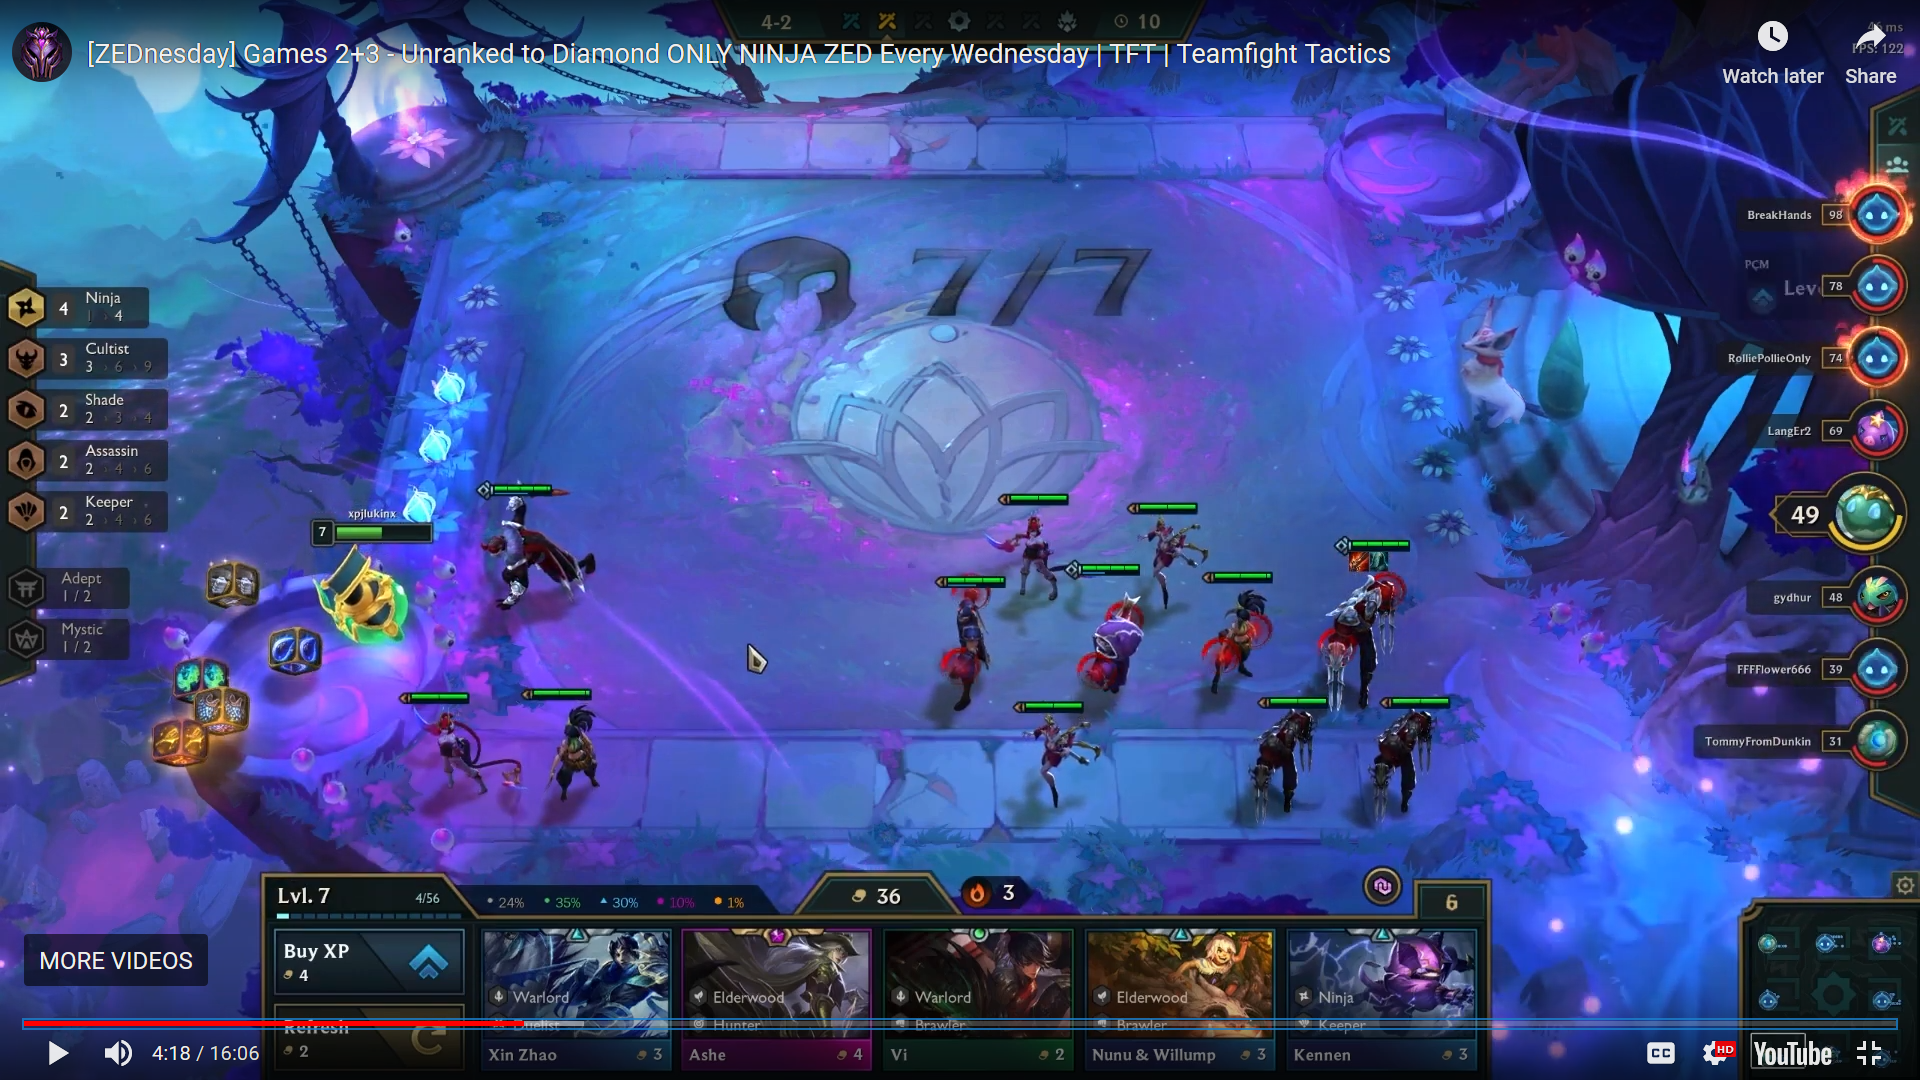1star_akali: (1182, 562, 1288, 708), (512, 676, 618, 822)
1star_elise: (1007, 692, 1108, 829), (1114, 491, 1215, 626)
1star_evelynn: (386, 673, 529, 818), (980, 476, 1097, 618)
1star_pyke: (458, 467, 615, 626)
1star_shen: (911, 562, 1015, 731)
1star_zed: (1353, 688, 1456, 836), (1229, 690, 1332, 833)
2star_kennen: (1048, 551, 1154, 720)
2star_zed: (1305, 524, 1427, 723)
trait_adept1: (1, 559, 181, 611)
trait_assassin2: (1, 434, 181, 487)
trait_cultist3: (1, 334, 181, 385)
trait_keeper2: (1, 483, 181, 534)
trait_mystic1: (1, 611, 181, 662)
trait_ninja4: (1, 280, 181, 332)
trait_shade2: (1, 381, 181, 433)
